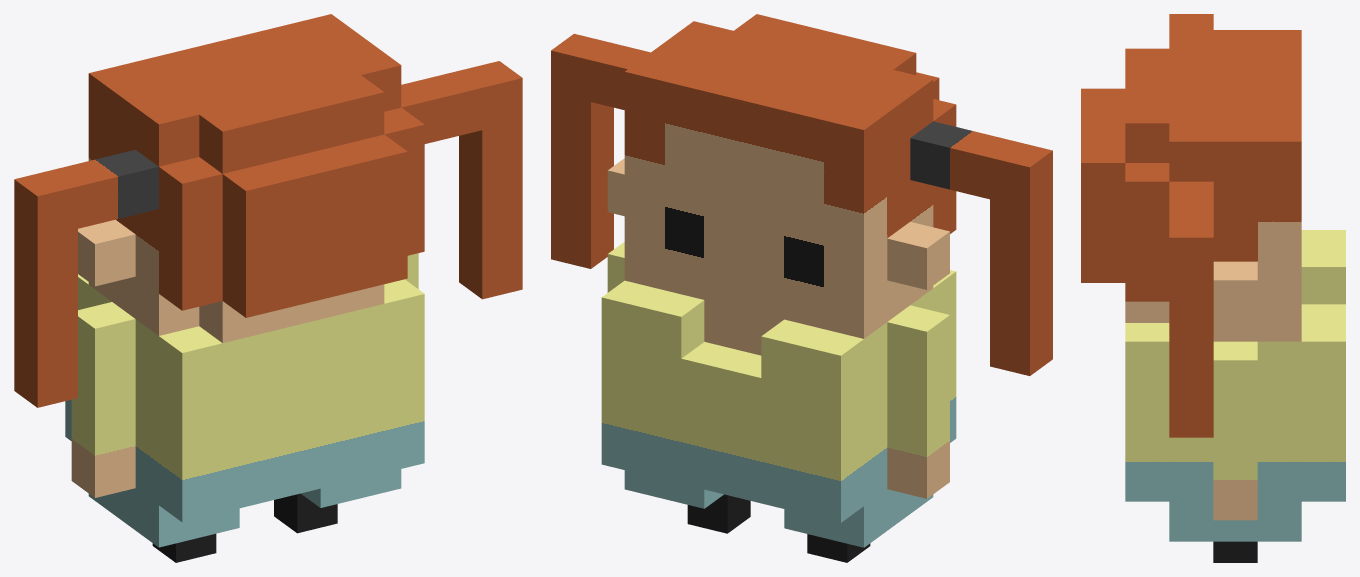
Rendered from chr_ponytail3.dae.
3 renders of one model, left to right at view 1: azimuth 30°, elevation 25°; view 2: azimuth 150°, elevation 25°; view 3: azimuth 270°, elevation 25°, orthographic. The views are drawn at different scales.
Parts seen in each view (by area): view 1: chr_ponytail3; view 2: chr_ponytail3; view 3: chr_ponytail3.
Boxes of the visible parts, bbox=[...] form: chr_ponytail3: bbox=[14, 14, 522, 562]; chr_ponytail3: bbox=[551, 14, 1052, 562]; chr_ponytail3: bbox=[1081, 14, 1345, 562].
Size of the model in its own units: 1.2 by 0.6 by 1.1.
